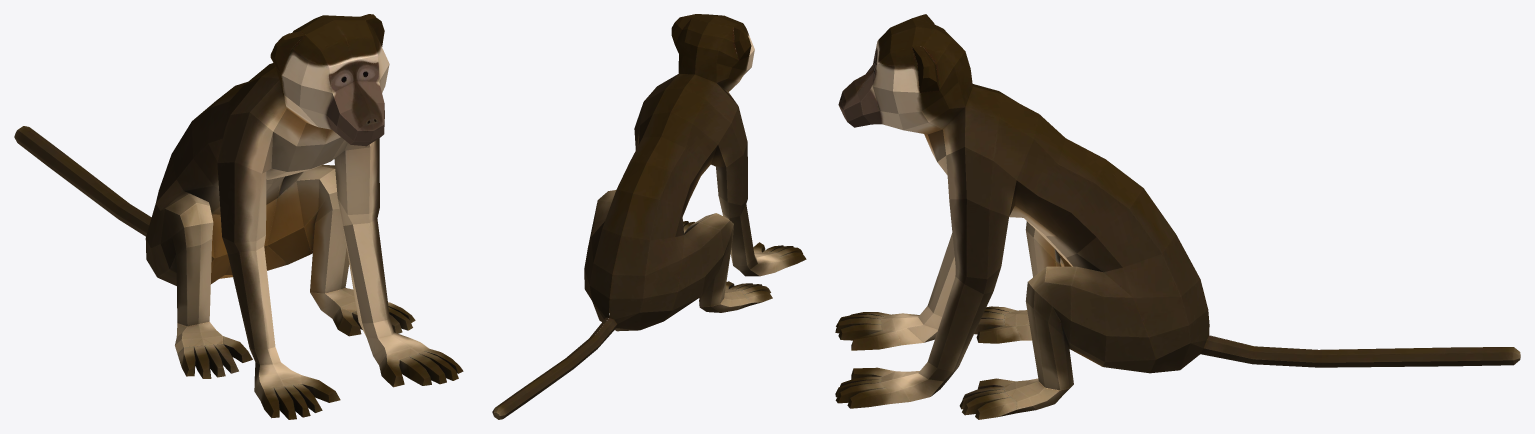
Rendered from prop_pz_monkey.glb.
3 renders of one model, left to right at view 1: azimuth 30°, elevation 25°; view 2: azimuth 150°, elevation 25°; view 3: azimuth 270°, elevation 25°, orthographic. The views are drawn at different scales.
Parts seen in each view (by area): view 1: Monkey_mesh; view 2: Monkey_mesh; view 3: Monkey_mesh.
Part boxes in pixels (x1=…): Monkey_mesh: x1=14, y1=14, x2=463, y2=419; Monkey_mesh: x1=492, y1=14, x2=806, y2=419; Monkey_mesh: x1=835, y1=14, x2=1520, y2=419.
Size of the model in its own units: 3.06 by 4.49 by 8.2.
1 material, 1 textured.
